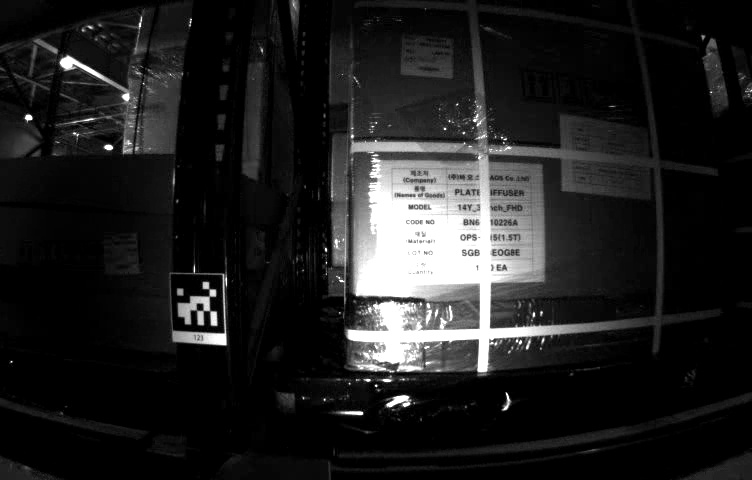True Barcode: (403, 33, 453, 78), (103, 234, 139, 275)
